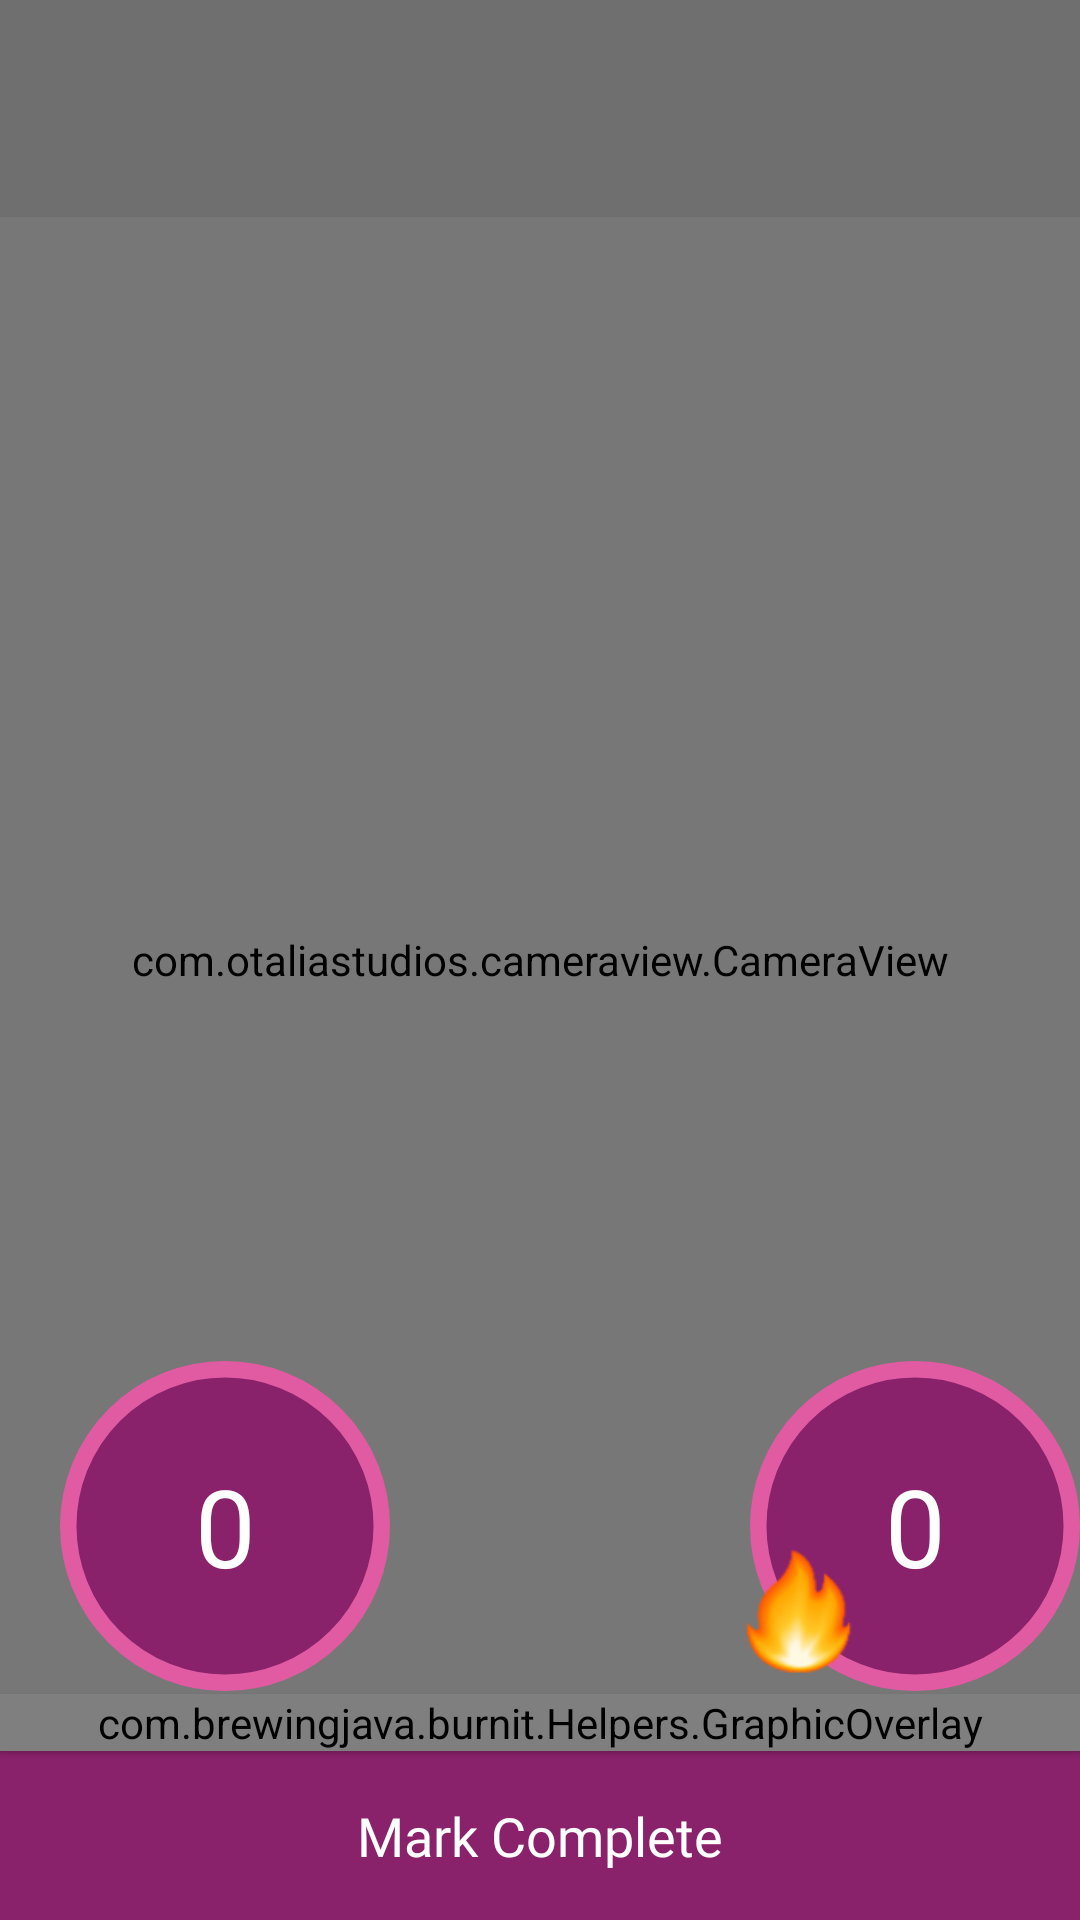

Point at icon controls on the screen. Image size 1080×1920, points as point (x, y).
fire: point (802, 1616)
